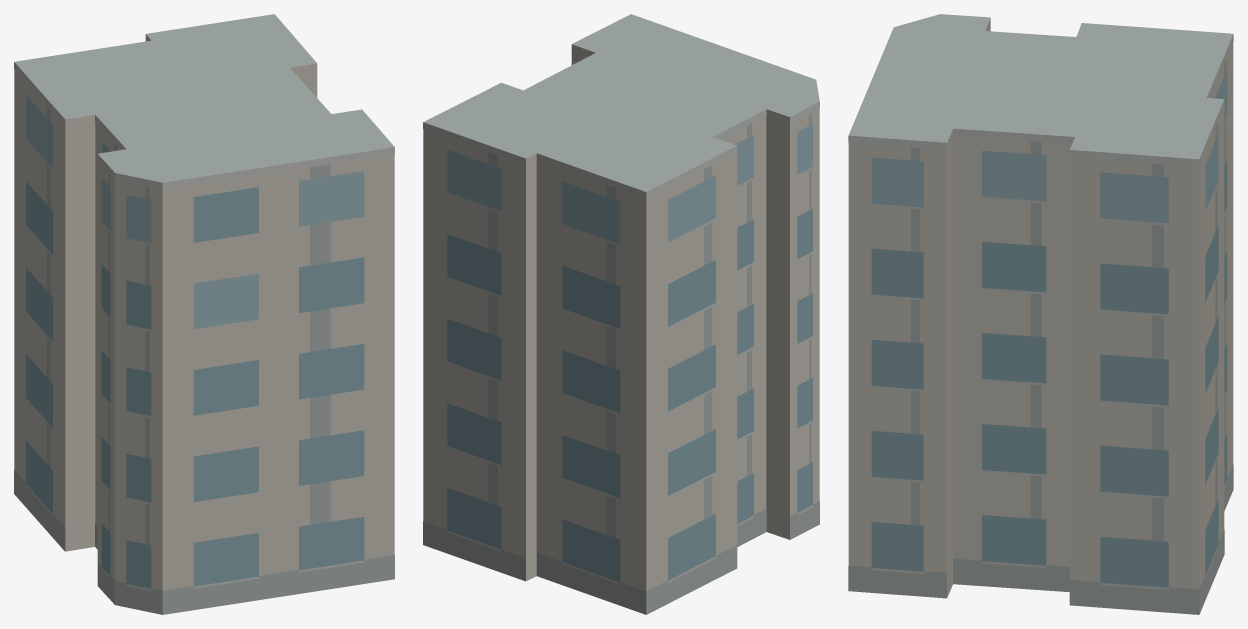
Rendered from survey-upis-32805667.glb.
3 views of the same model, side by side, from view 1: azimuth 30°, elevation 25°; view 2: azimuth 150°, elevation 25°; view 3: azimuth 270°, elevation 25° (orthographic). The views are drawn at different scales.
Parts seen in each view (by area): view 1: survey-upis-32805667.tmp; view 2: survey-upis-32805667.tmp; view 3: survey-upis-32805667.tmp.
Boxes of the visible parts, x1=… form: survey-upis-32805667.tmp: x1=14, y1=14, x2=394, y2=614; survey-upis-32805667.tmp: x1=423, y1=14, x2=819, y2=614; survey-upis-32805667.tmp: x1=848, y1=14, x2=1233, y2=614.
Size of the model in its own units: 10.07 by 14.7 by 11.27.
